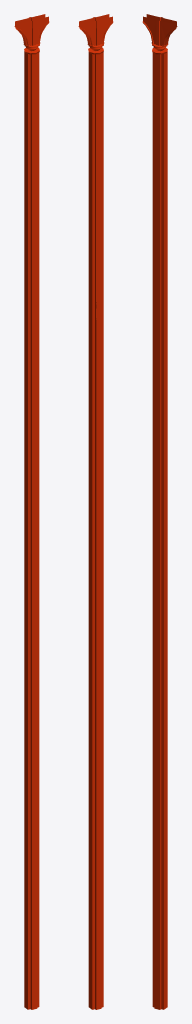
The model's file is SM_WallArchTrib.fbx.
The picture shows the model from 3 angles, left to right: view 1: azimuth 30°, elevation 25°; view 2: azimuth 210°, elevation 25°; view 3: azimuth 330°, elevation 25°; orthographic projection.
Visible parts, largest first — view 1: SM_WallArchTrib; view 2: SM_WallArchTrib; view 3: SM_WallArchTrib.
Boxes of the visible parts, <box> form: SM_WallArchTrib: <box>14,14,49,1009</box>; SM_WallArchTrib: <box>78,14,113,1009</box>; SM_WallArchTrib: <box>142,14,177,1009</box>.
Bounding box in the file's own units: 4 × 124 × 1.88.
